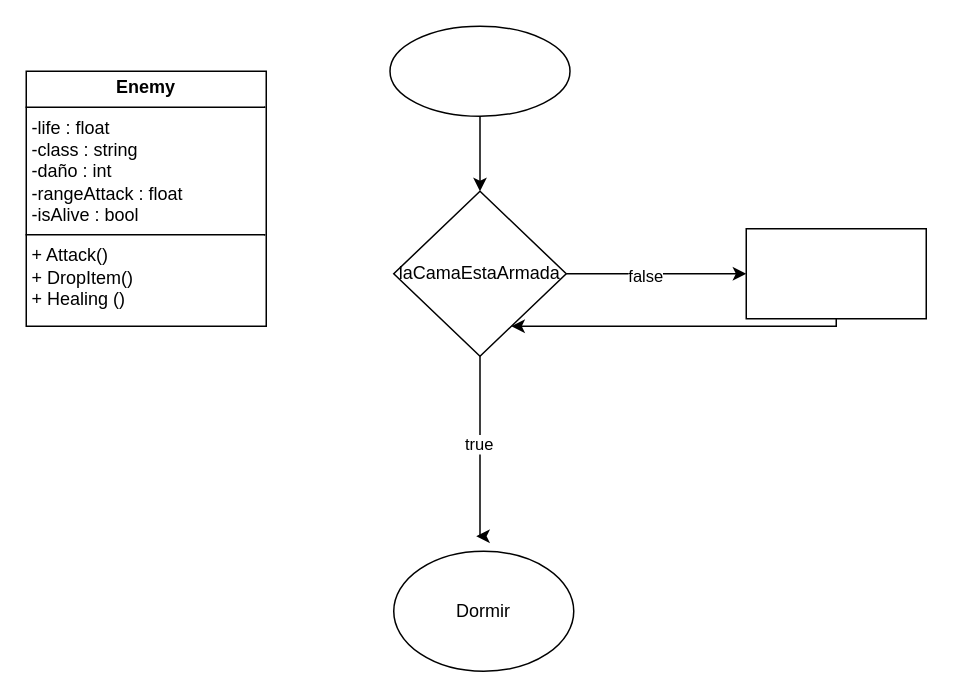
Some shapes in this 953 by 698 pixel diagram are drawn without their labels. Here are the shapes that lost their labels. From the top down, the centre of each, then its label:
At pixel 479 70: "quieroDormir()".
At pixel 835 273: "armar la cama".
